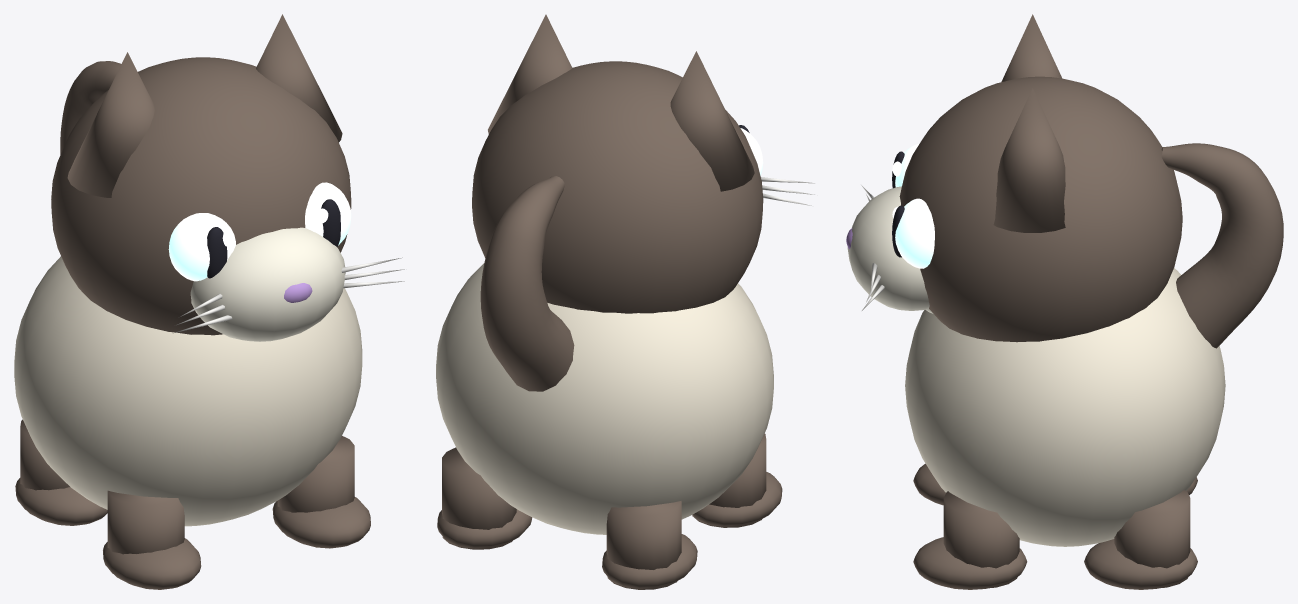
File: siamese_gossip.glb
3 views of the same model, side by side, from view 1: azimuth 30°, elevation 25°; view 2: azimuth 150°, elevation 25°; view 3: azimuth 270°, elevation 25° (orthographic). The views are drawn at different scales.
Parts seen in each view (by area): view 1: siamese_gossip; view 2: siamese_gossip; view 3: siamese_gossip.
Part boxes in pixels (x1=…): siamese_gossip: x1=14, y1=14, x2=404, y2=589; siamese_gossip: x1=436, y1=14, x2=814, y2=589; siamese_gossip: x1=846, y1=14, x2=1283, y2=589.
Size of the model in its own units: 1.15 by 1.8 by 1.45.
